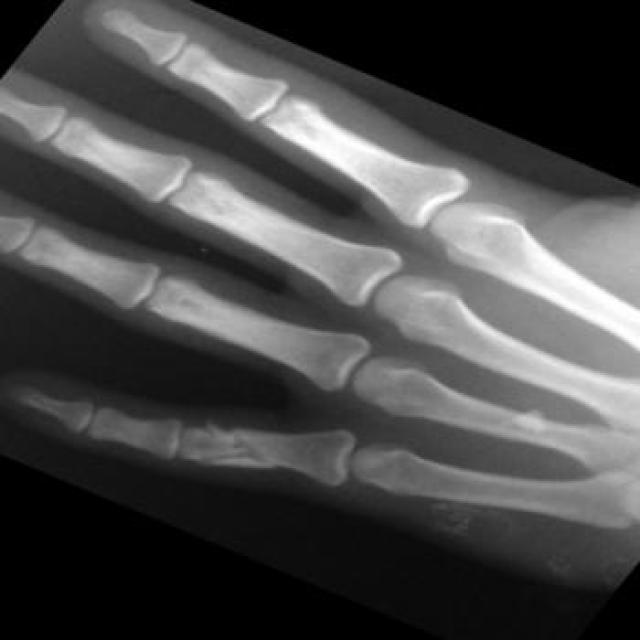Fracture: (198, 426, 282, 475)
